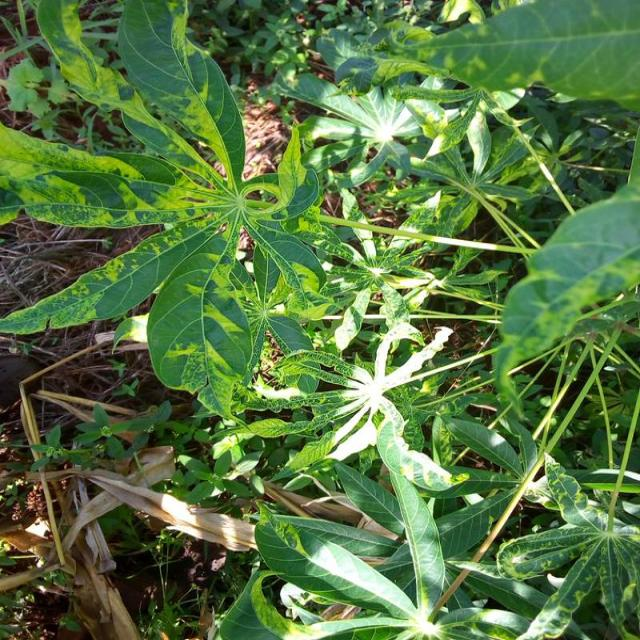cassava leaf: (0, 0, 328, 418), (116, 0, 246, 191), (145, 249, 253, 418)
